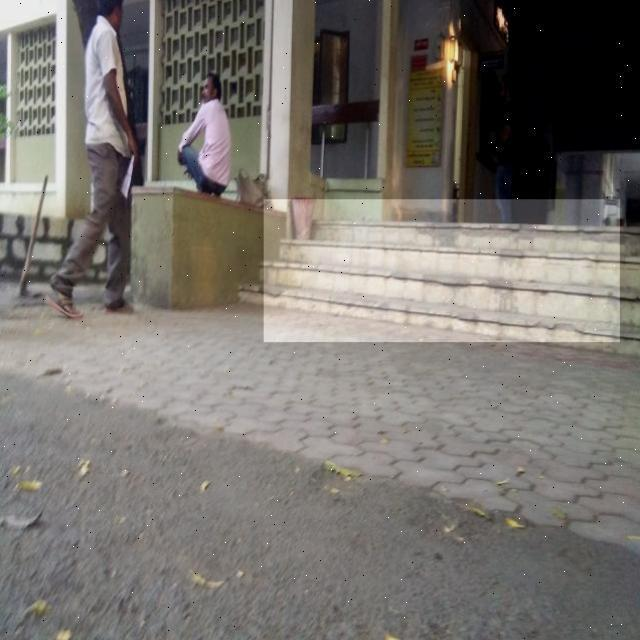stair: (264, 199, 620, 342)
